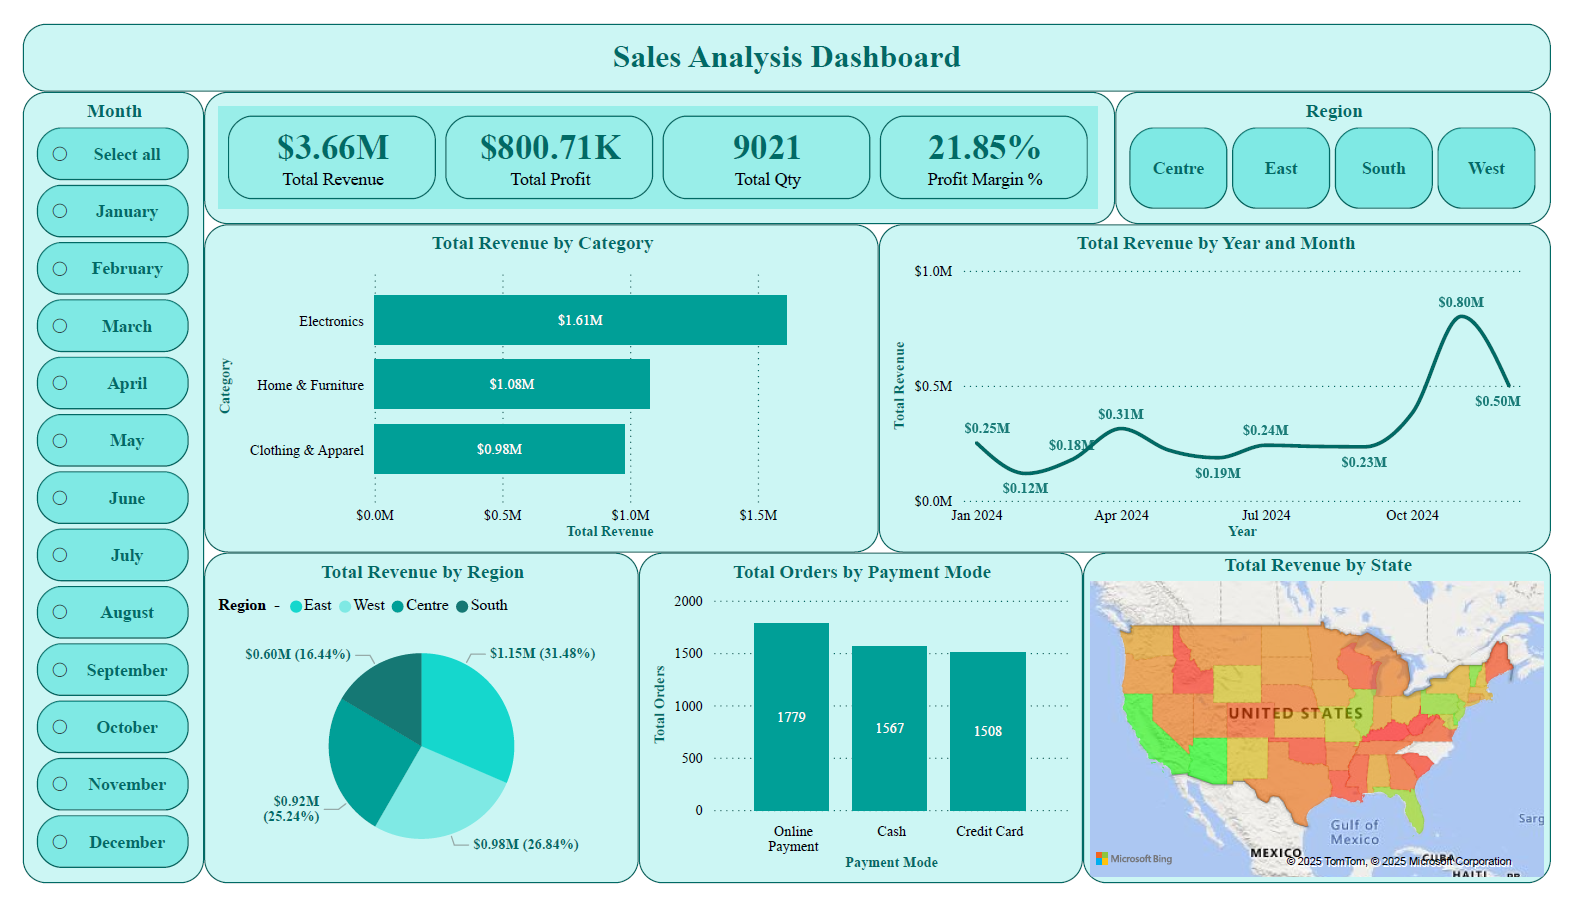

Layout of this report page (visuals, bound fields, positions):
{"tool":"powerbi","page":{"name":"Sales_Dashboard","canvas":[1280,720],"ordinal":0},"visuals":[{"type":"barChart","fields":{"Category":["Sales.Category"],"Y":["Measure.Total Revenue"]},"box":[151.6,167.5,564.9,275.1],"z":0},{"type":"cardVisual","fields":{"Data":["Measure.Total Revenue","Measure.Total Profit","Measure.Total Qty","Measure.Profit Margin %"]},"box":[151.6,57.5,763,110.1],"z":1000},{"type":"filledMap","fields":{"Category":["Customer.State"]},"box":[887.8,442.7,392.5,277.6],"z":2000},{"type":"pieChart","fields":{"Category":["Customer.Region"],"Y":["Measure.Total Revenue"]},"box":[151.6,442.7,364.4,277.6],"z":3000},{"type":"lineChart","fields":{"Category":["Sales.Order Date.Variation.Date Hierarchy.Year","Sales.Order Date.Variation.Date Hierarchy.Month","Sales.Order Date.Variation.Date Hierarchy.Day"],"Y":["Measure.Total Revenue"]},"box":[716.6,167.5,563.7,275.1],"z":4000},{"type":"textbox","box":[0,0,1280.3,57.5],"z":5000},{"type":"advancedSlicerVisual","fields":{"Values":["Sales.Order Date.Variation.Date Hierarchy.Month"]},"box":[0,57.5,151.6,662.8],"z":6000},{"type":"columnChart","fields":{"Category":["Sales.Payment Mode"],"Y":["Measure.Total Orders"]},"box":[516,442.7,371.7,277.6],"z":7000},{"type":"advancedSlicerVisual","fields":{"Values":["Customer.Region"]},"box":[914.7,57.5,365.6,110.1],"z":8000}]}

Visuals, with their boxes in screenshot pixels (x1, y1, x2, y2), scaled from the page's 1280x720 canvas onto the 1574x908 screenshot:
barChart - Sales.Category x Measure.Total Revenue: (186, 211, 881, 558)
cardVisual - Measure.Total Revenue x Measure.Total Profit: (186, 73, 1125, 211)
filledMap - Customer.State: (1092, 558, 1573, 907)
pieChart - Customer.Region x Measure.Total Revenue: (186, 558, 635, 907)
lineChart - Sales.Order Date.Variation.Date Hierarchy.Year x Sales.Order Date.Variation.Date Hierarchy.Month: (881, 211, 1573, 558)
textbox: (0, 0, 1573, 73)
advancedSlicerVisual - Sales.Order Date.Variation.Date Hierarchy.Month: (0, 73, 186, 907)
columnChart - Sales.Payment Mode x Measure.Total Orders: (635, 558, 1092, 907)
advancedSlicerVisual - Customer.Region: (1125, 73, 1573, 211)
